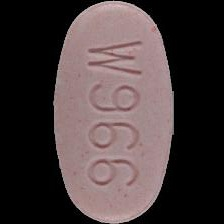64679-966: (0, 0, 224, 224)
